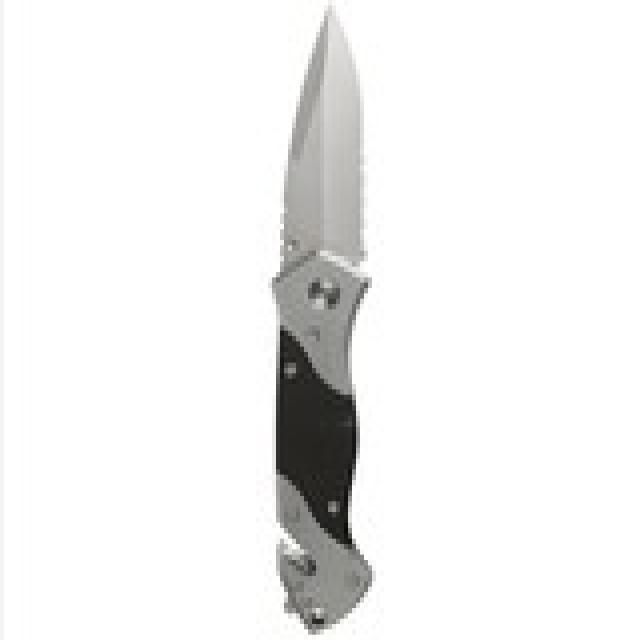Knife: (252, 1, 384, 640)
